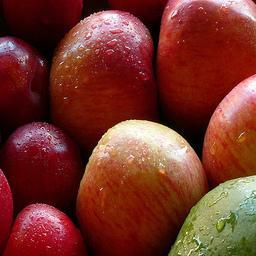apple: (74, 121, 213, 254), (47, 9, 154, 147), (155, 1, 256, 128), (200, 73, 256, 189), (1, 122, 78, 205), (1, 36, 46, 142), (3, 202, 87, 254), (1, 1, 84, 52)
